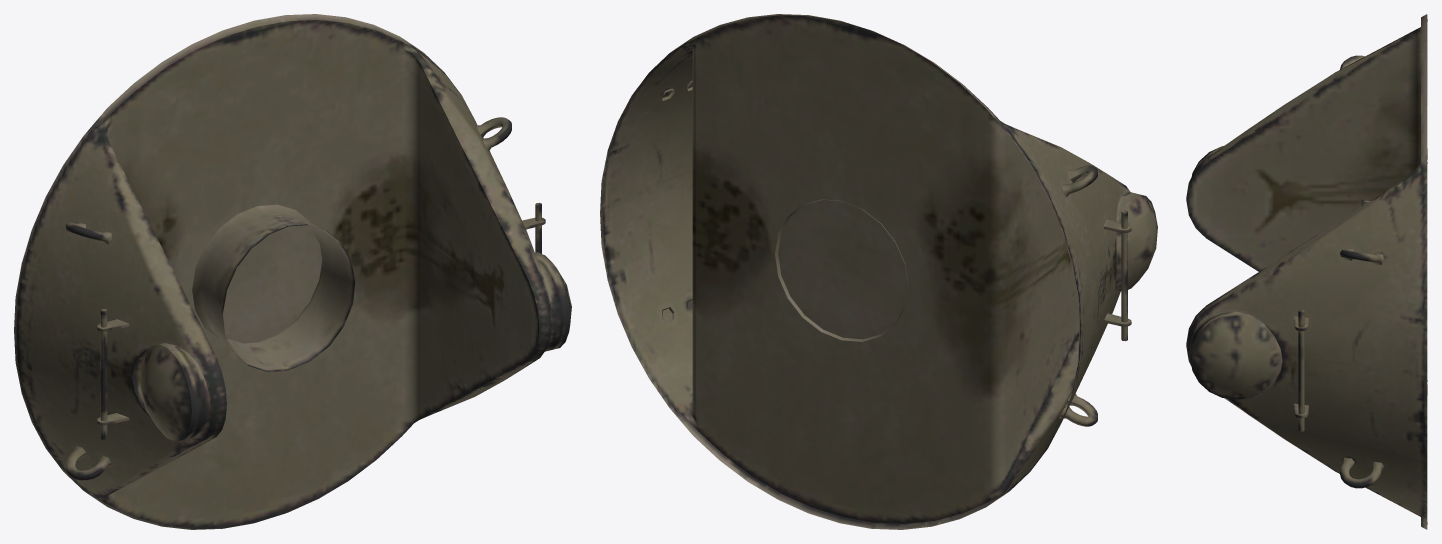
Rendered from Turret_01.glb.
3 views of the same model, side by side, from view 1: azimuth 30°, elevation 25°; view 2: azimuth 150°, elevation 25°; view 3: azimuth 270°, elevation 25° (orthographic). The views are drawn at different scales.
Parts seen in each view (by area): view 1: set_0_group_0; view 2: set_0_group_0; view 3: set_0_group_0.
Part boxes in pixels (x1=…): set_0_group_0: x1=14, y1=14, x2=571, y2=529; set_0_group_0: x1=600, y1=14, x2=1157, y2=529; set_0_group_0: x1=1186, y1=14, x2=1427, y2=529.
Size of the model in its own units: 1.57 by 1.57 by 0.7326.
Materials: 1 (1 with a texture image).
